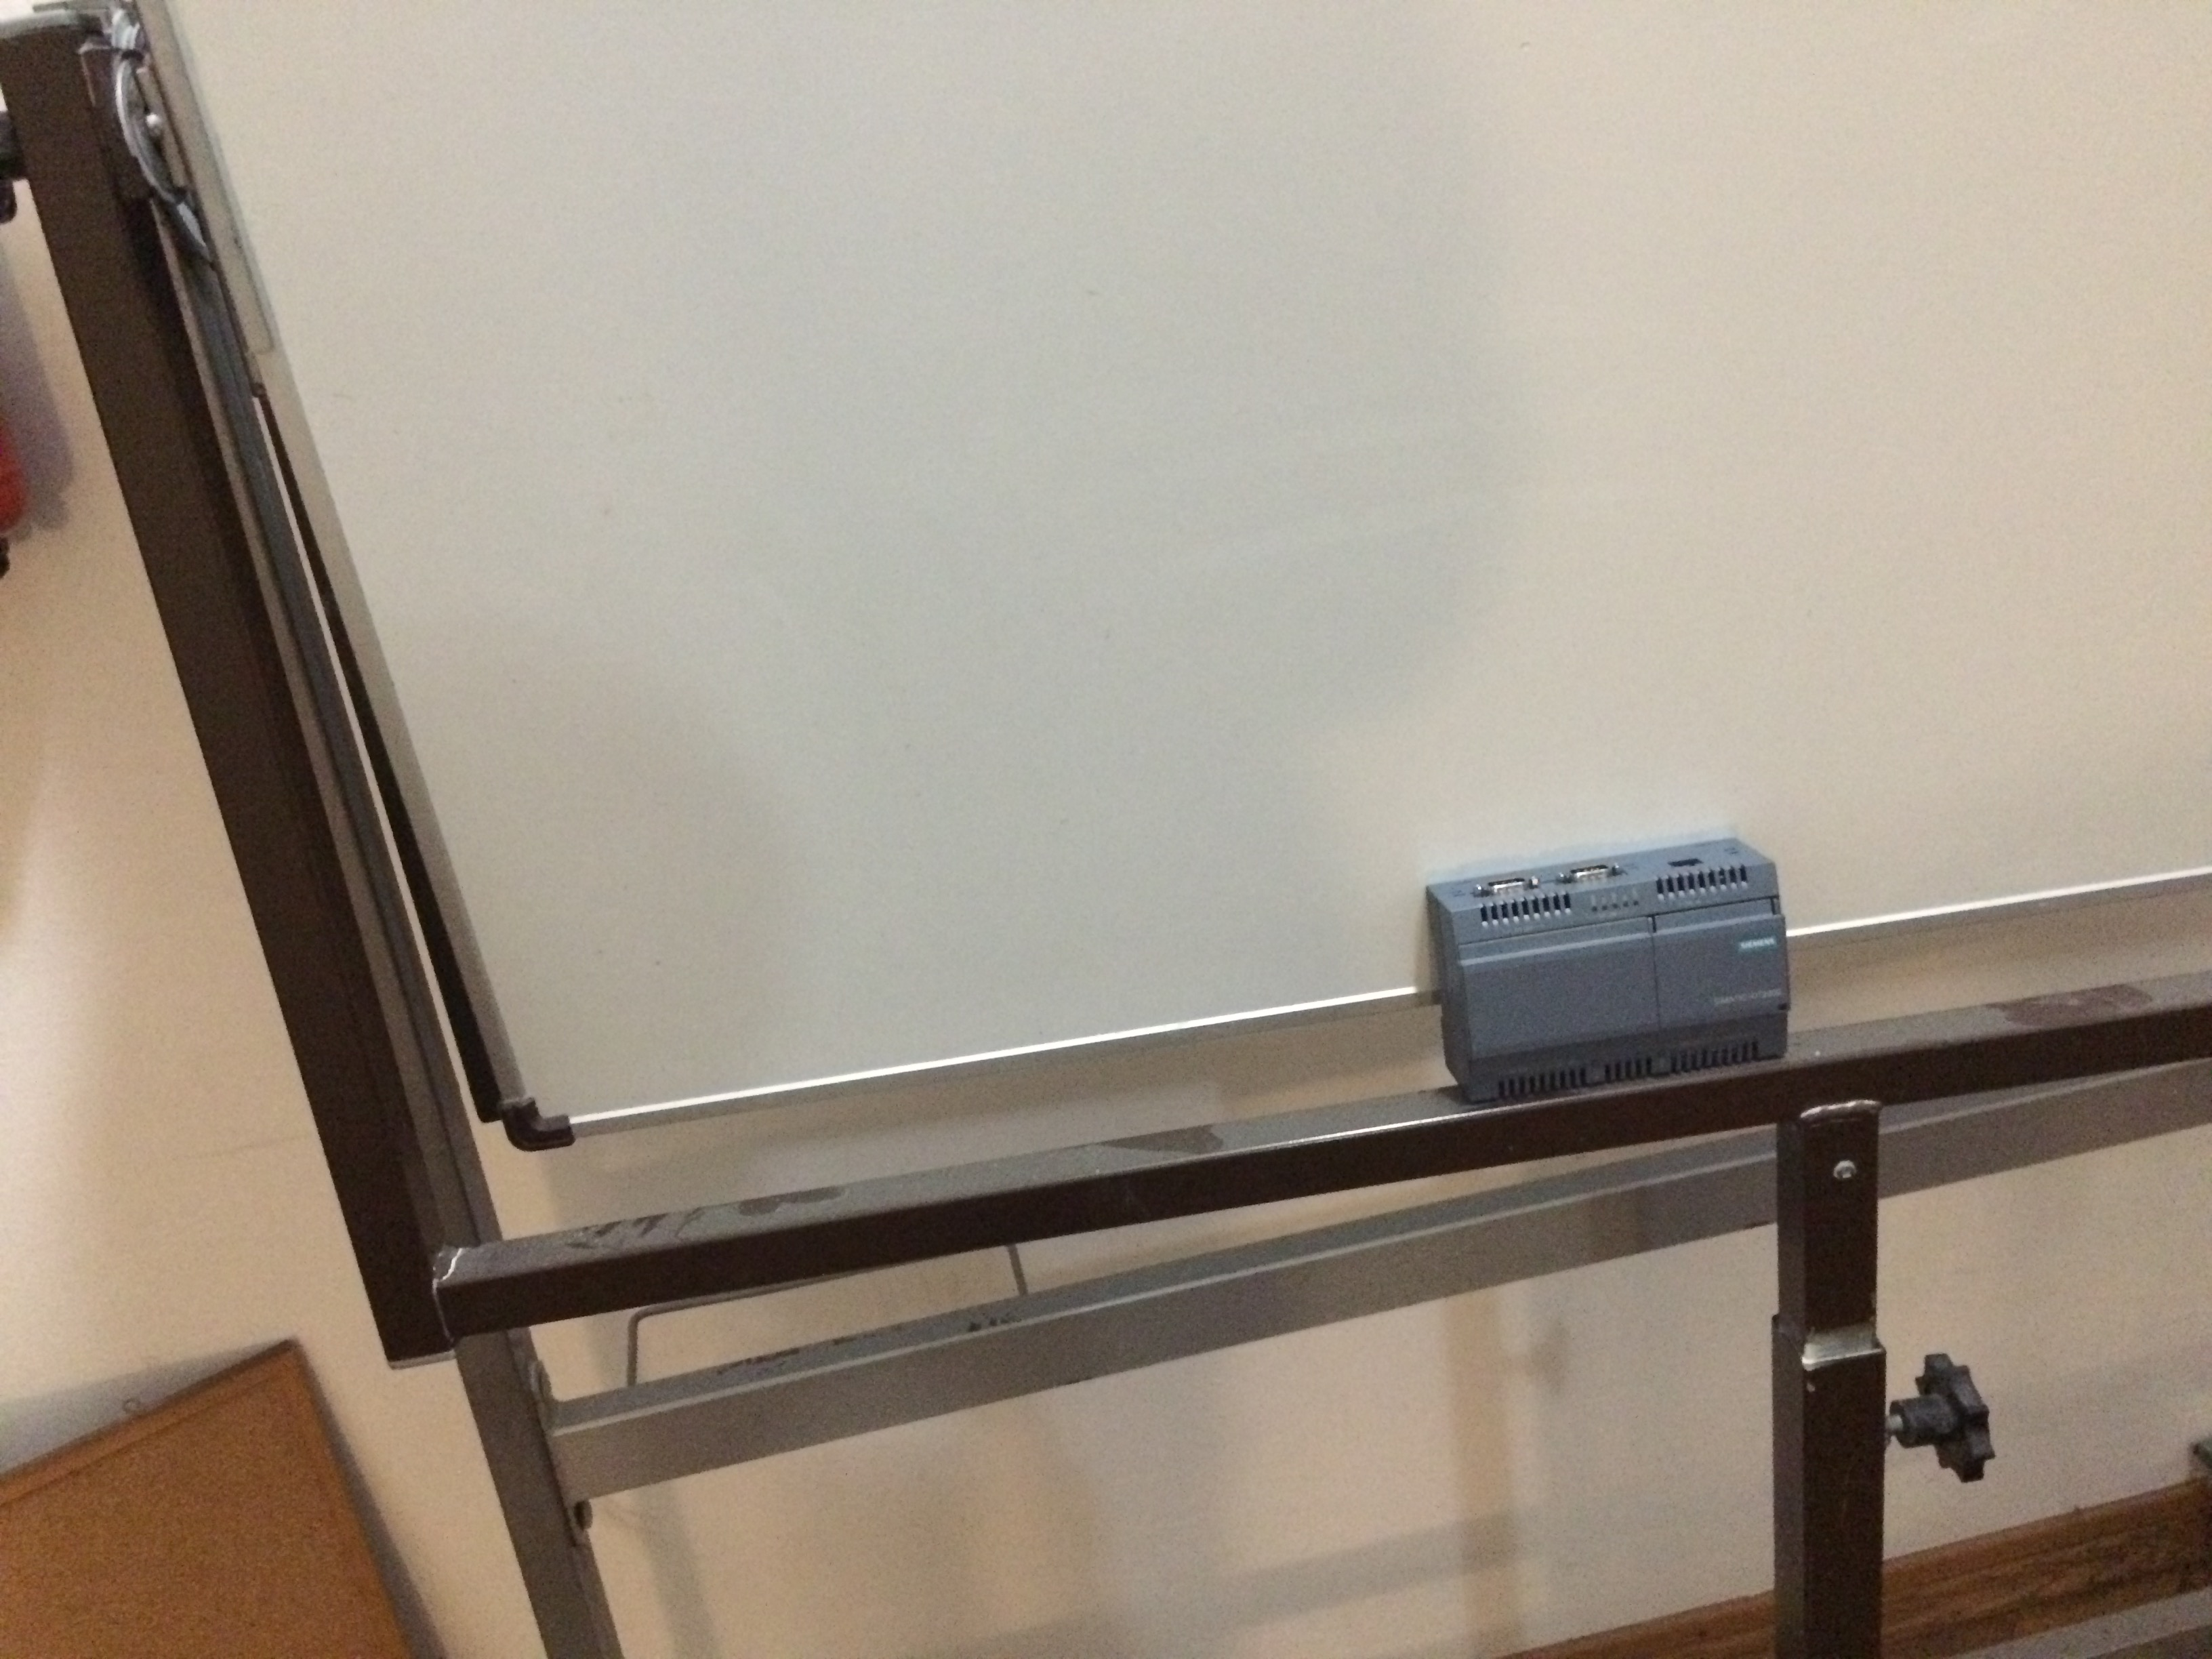iot2000: (1420, 833, 1796, 1112)
